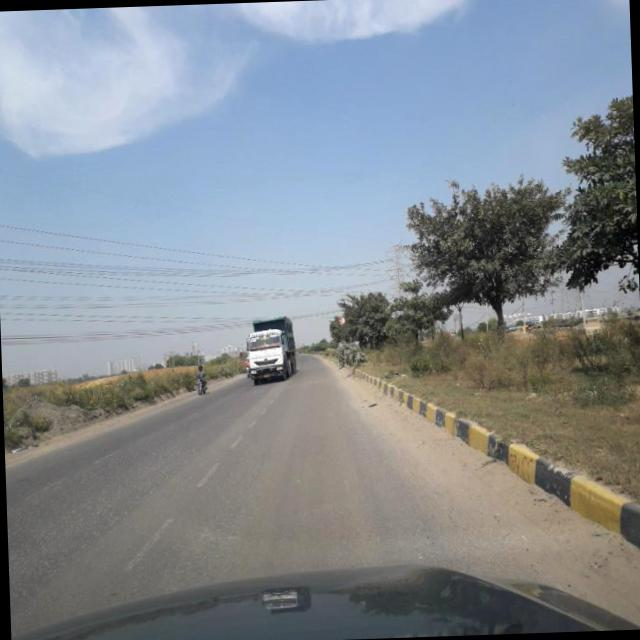crack: (5, 444, 196, 595)
